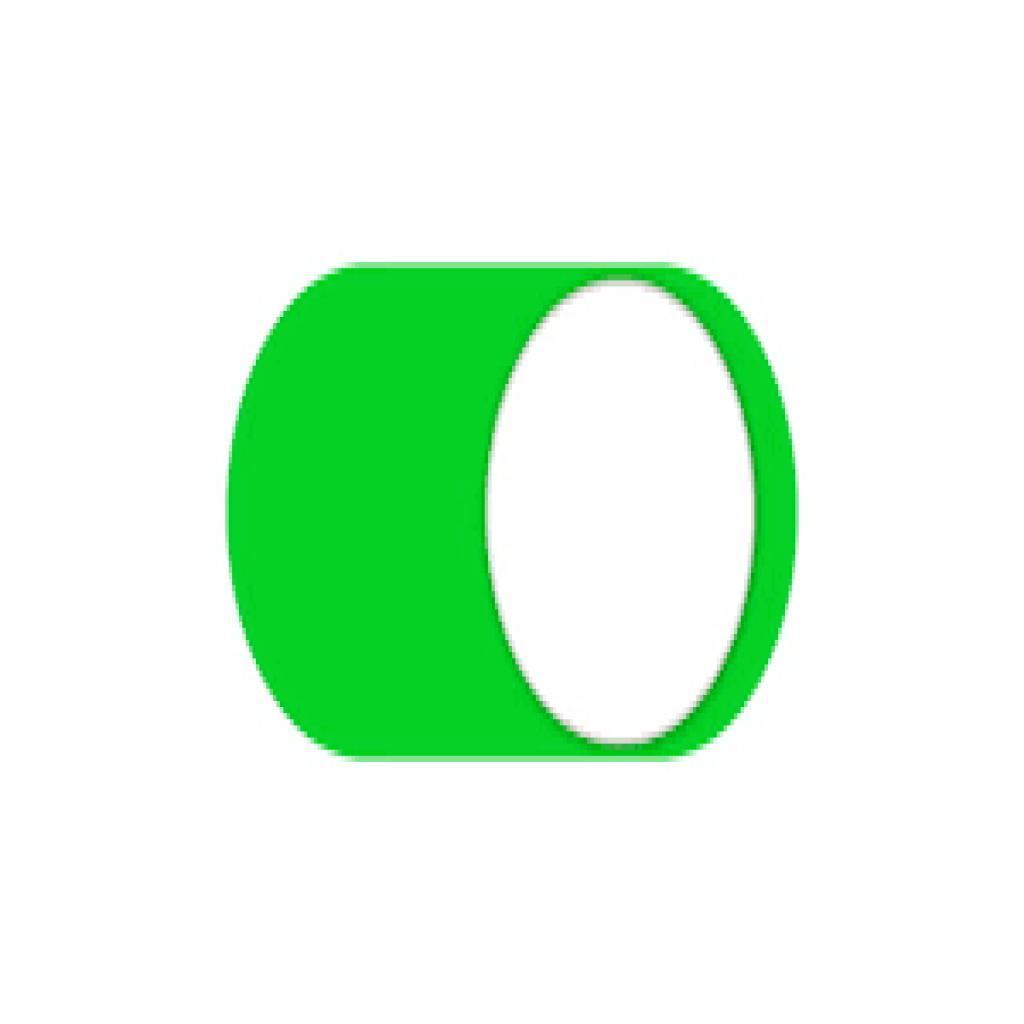switch: (226, 258, 800, 765)
